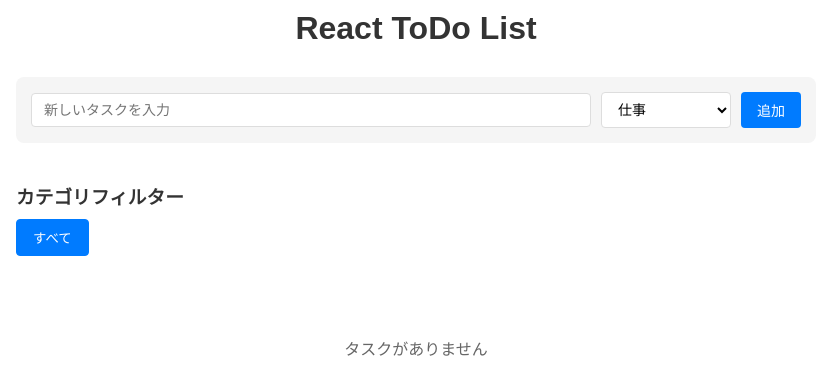
Scenario: App Integration Tests › deletes a todo
The width and height of the screenshot is (819, 374).
Type "Test todo" into the field with placeholder "新しいタスクを入力" at point(311, 110), box [31,93,591,127]
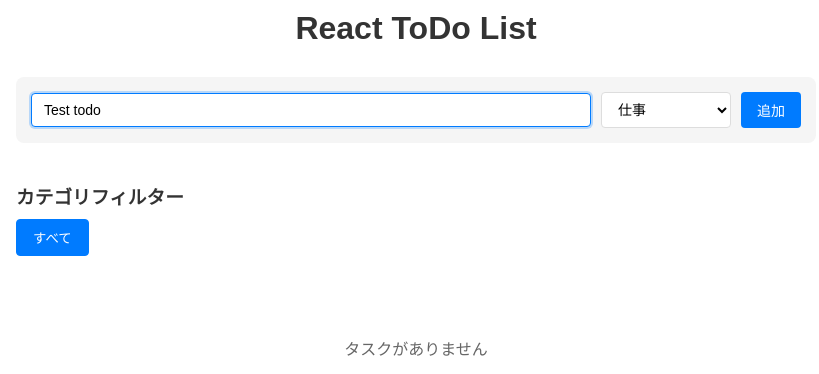
Click the button "追加" at point(771, 110), box [741,92,801,128]
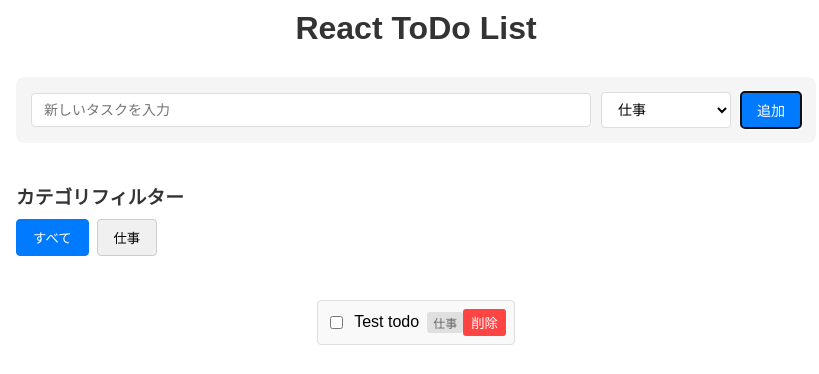
Now the text "Test todo" is shown, box [354,313,419,331]
Click the button "削除" at point(484, 322), box [463,309,506,336]
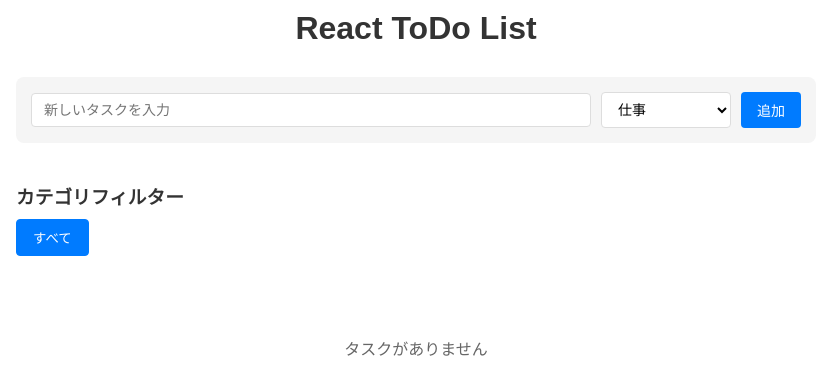
Now the text "Test todo" is gone
Now the text "タスクがありません" is shown, box [344,341,488,358]
